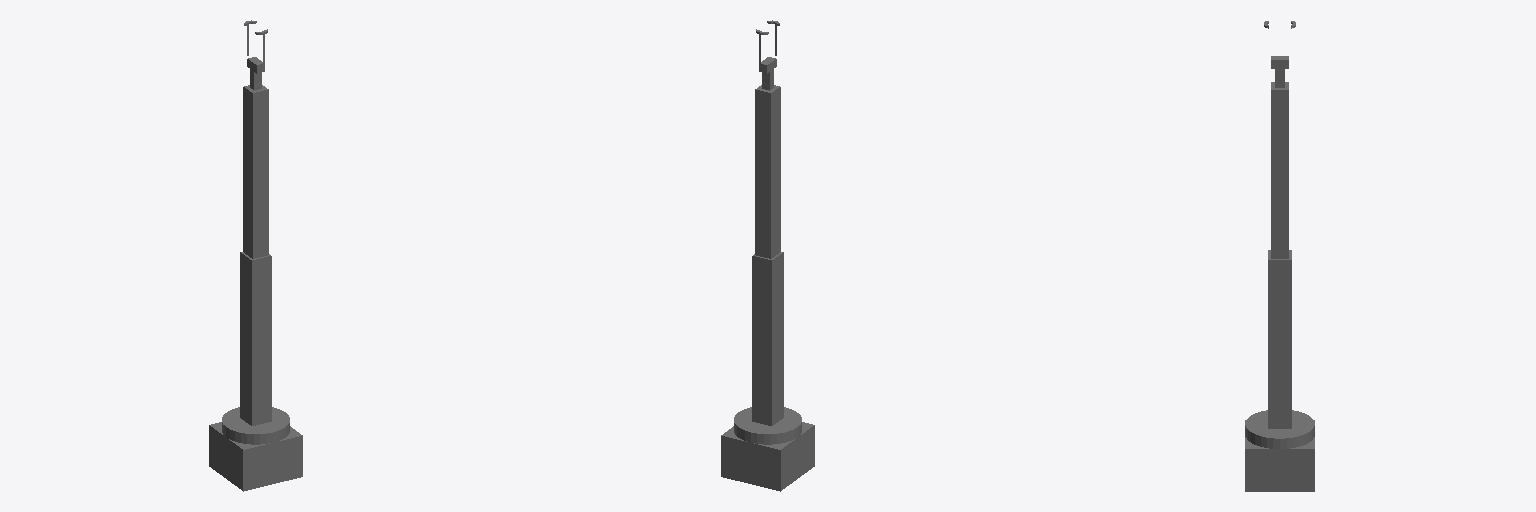
robot.urdf — chessArm:
<?xml version="1.0" ?>
<robot name="chessArm">

  <material name="gray">
    <color rgba="0.5 0.5 0.5 1"/>
  </material>
    
  <joint name="fixed" type="fixed">
    <parent link="world"/>
    <child link="base"/>
  </joint>
  
  
  <joint name="elbow" type="revolute">
    <parent link="upper_arm"/>
    <child link="forearm"/>
    <origin rpy="0  0  0" xyz="0   0   0.4"/>
    <axis xyz="0  1  0"/>
    <limit effort="-1.0" lower="-1.79769e+308" upper="1.79769e+308" velocity="-0.5"/>
  </joint>
  
  <joint name="wrist" type="revolute">
    <parent link="forearm"/>
    <child link="wrist_link"/>
    <origin rpy="0  0  0" xyz="0   0   0.4"/>
    <axis xyz="0   1   0"/>
    <limit effort="-1.0" lower="-1.79769e+308" upper="1.79769e+308" velocity="-0.5"/>
  </joint>
  
  <joint name="hand_joint" type="fixed">
    <parent link="wrist_link"/>
    <child link="gripper_bar"/>
    <origin rpy="0   0   0" xyz="0     0     0.055"/>
    <axis xyz="0  0  0"/>
    <limit effort="0" lower="0" upper="0" velocity="0"/>
  </joint>
  
  <joint name="right_grab" type="prismatic">
    <parent link="gripper_bar"/>
    <child link="right_grip"/>
    <origin rpy="0  0  0" xyz="0 -0.001  0.0075"/>
    <axis xyz="0  1  0"/>
    <limit effort="200.0" lower="-0.02" upper="0" velocity="-1"/>
  </joint>
  
  <joint name="left_grab" type="prismatic">
    <parent link="gripper_bar"/>
    <child link="left_grip"/>
    <origin rpy="0  0  0" xyz="0 0.001  0.0075"/>
    <axis xyz="0  1  0"/>
    <limit effort="200.0" lower="0" upper="0.02" velocity="-1"/>
  </joint>
  
  <joint name="shoulder" type="revolute">
    <parent link="swivel_base"/>
    <child link="upper_arm"/>
    <origin rpy="0  0  0" xyz="0      0      0.0125"/>
    <axis xyz="0  1  0"/>
    <limit effort="-1.0" lower="-1.79769e+308" upper="1.79769e+308" velocity="-0.5"/>
  </joint>
  
  <joint name="swivel" type="revolute">
    <parent link="base"/>
    <child link="swivel_base"/>
    <origin rpy="0  0  0" xyz="0      0      0.1125"/>
    <axis xyz="0  0  1"/>
    <limit effort="-1.0" lower="-1.79769e+308" upper="1.79769e+308" velocity="-0.5"/>
  </joint>
  
  <link name="world"/>
  
  
  
  <link name="base">
    <inertial>
      <mass value="10"/>
      <origin rpy="0  0  0" xyz="0  0  0"/>
      <inertia ixx="0.166667" ixy="0" ixz="0" iyy="0.166667" iyz="0" izz="0.166667"/>
    </inertial>
    <collision name="base_fixed_joint_lump__chessArm__collision_collision">
      <origin rpy="0  0  0" xyz="0    0    0.05"/>
      <geometry>
        <box size="0.15 0.15 0.1"/>
      </geometry>
    </collision>
    <visual name="base_fixed_joint_lump__chessArm__visual_visual">
      <origin rpy="0  0  0" xyz="0    0    0.05"/>
      <geometry>
        <box size="0.15 0.15 0.1"/>
      </geometry>
      <material name="gray"/>
    </visual>
  </link>
  
  <link name="forearm">
    <inertial>
      <mass value="0.01"/>
      <origin rpy="0  0  0" xyz="0  0  0"/>
      <inertia ixx="0.166667" ixy="0" ixz="0" iyy="0.166667" iyz="0" izz="0.166667"/>
    </inertial>
    <collision name="forearm_fixed_joint_lump__chessArm__collision_collision">
      <origin rpy="0  0  0" xyz="0   0   0.2"/>
      <geometry>
        <box size="0.04 0.04 0.4"/>
      </geometry>
    </collision>
    <visual name="forearm_fixed_joint_lump__chessArm__visual_visual">
      <origin rpy="0  0  0" xyz="0   0   0.2"/>
      <geometry>
        <box size="0.04 0.04 0.4"/>
      </geometry>
      <material name="gray"/>
    </visual>
  </link>
  
  <link name="wrist_link">
    <inertial>
      <mass value="0.01"/>
      <origin rpy="0  0  0" xyz="0  0  0"/>
      <inertia ixx="0.166667" ixy="0" ixz="0" iyy="0.166667" iyz="0" izz="0.166667"/>
    </inertial>
    <collision name="chessArm__collision">
      <origin rpy="0  0  0" xyz="0     0     0.025"/>
      <geometry>
        <box size="0.02 0.02 0.055"/>
      </geometry>
    </collision>
    <visual name="chessArm__visual">
      <origin rpy="0  0  0" xyz="0     0     0.025"/>
      <geometry>
        <box size="0.02 0.02 0.055"/>
      </geometry>
      <material name="gray"/>
    </visual>
  </link>
  
  <link name="gripper_bar">
    <inertial>
      <mass value="0.01"/>
      <origin rpy="0  0  0" xyz="0  0  0"/>
      <inertia ixx="0.166667" ixy="0" ixz="0" iyy="0.166667" iyz="0" izz="0.166667"/>
    </inertial>
    <collision name="chessArm__collision">
      <origin rpy="0  0  0" xyz="0  0  0"/>
      <geometry>
        <box size="0.02 0.04 0.02"/>
      </geometry>
    </collision>
    <visual name="chessArm__visual">
      <origin rpy="0  0  0" xyz="0  0  0"/>
      <geometry>
        <box size="0.02 0.04 0.02"/>
      </geometry>
      <material name="gray"/>
    </visual>
  </link>
  
  <link name="left_grip">
    <inertial>
      <mass value="0.05"/>
      <origin rpy="0  0  0" xyz="0  0  0"/>
      <inertia ixx="0.166667" ixy="0" ixz="0" iyy="0.166667" iyz="0" izz="0.166667"/>
    </inertial>
    <collision name="chessArm__collision">
      <origin rpy="0  3.14159  -1.570795" xyz="0     -0.02     0.085"/>
      <geometry>
        <mesh filename="package://chessRobot/models/chessGripper/gripper.dae" scale="0.01 0.01 0.01"/>
      </geometry>
    <mu1 value="100"/>
    <mu2 value="100"/>
    <kp  value="100" />
    <kd  value="1.0" />
    <minDepth>0.002</minDepth>
    <maxVel>0</maxVel>  
    <dynamics damping="0.7" friction="1000" />
    </collision>
    <visual name="chessArm__visual">
     <origin rpy="0  3.14159  -1.570795" xyz="0     -0.02     0.085"/>
      <geometry>
        <mesh filename="package://chessRobot/models/chessGripper/gripper.dae" scale="0.01 0.01 0.01"/>
      </geometry>
      <material name="gray"/>
    </visual>
  </link>
  
  <link name="right_grip">
    <inertial>
      <mass value="0.05"/>
      <origin rpy="0  0  0" xyz="0  0  0"/>
      <inertia ixx="0.166667" ixy="0" ixz="0" iyy="0.166667" iyz="0" izz="0.166667"/>
    </inertial>
    <collision name="chessArm__collision">
      <origin rpy="0  3.14159  1.570795" xyz="0     0.02     0.085"/>
      <geometry>
        <mesh filename="package://chessRobot/models/chessGripper/gripper.dae" scale="0.01 0.01 0.01"/>
      </geometry>
    <mu1 value="100"/>
    <mu2 value="100"/>
    <kp  value="100" />
    <kd  value="1.0" />
    <minDepth>0.002</minDepth>
    <maxVel>0</maxVel>  
    <dynamics damping="0.7" friction="1000" />
    </collision>
    <visual name="chessArm__visual">
      <origin rpy="0  3.14159  1.570795" xyz="0     0.02     0.085"/>
      <geometry>
        <mesh filename="package://chessRobot/models/chessGripper/gripper.dae" scale="0.01 0.01 0.01"/>
      </geometry>
      <material name="gray"/>
    </visual>
  </link>
  
  <link name="swivel_base">
    <inertial>
      <mass value="1"/>
      <origin rpy="0  0  0" xyz="0  0  0"/>
      <inertia ixx="0.145833" ixy="0" ixz="0" iyy="0.145833" iyz="0" izz="0.125"/>
    </inertial>
    <collision name="swivel_base_fixed_joint_lump__chessArm__collision_collision">
      <origin rpy="0  0  0" xyz="0  0  0"/>
      <geometry>
        <cylinder length="0.025" radius="0.075"/>
      </geometry>
    </collision>
    <visual name="swivel_base_fixed_joint_lump__chessArm__visual_visual">
      <origin rpy="0  0  0" xyz="0  0  0"/>
      <geometry>
        <cylinder length="0.025" radius="0.075"/>
      </geometry>
      <material name="gray"/>
    </visual>
  </link>
  
  <link name="upper_arm">
    <inertial>
      <mass value="0.01"/>
      <origin rpy="0  0  0" xyz="0  0  0"/>
      <inertia ixx="0.166667" ixy="0" ixz="0" iyy="0.166667" iyz="0" izz="0.166667"/>
    </inertial>
    <collision name="upper_arm_fixed_joint_lump__chessArm__collision_collision">
      <origin rpy="0  0  0" xyz="0   0   0.2"/>
      <geometry>
        <box size="0.05 0.05 0.4"/>
      </geometry>
    </collision>
    <visual name="upper_arm_fixed_joint_lump__chessArm__visual_visual">
      <origin rpy="0  0  0" xyz="0   0   0.2"/>
      <geometry>
        <box size="0.05 0.05 0.4"/>
      </geometry>
      <material name="gray"/>
    </visual>
  </link>
</robot>

--- Render facts (derived) ---
3 views of the same robot in one strip: view 1: azimuth 30°, elevation 25°; view 2: azimuth 150°, elevation 25°; view 3: azimuth 270°, elevation 25° (orthographic).
Robot: chessArm — 9 links, 8 joints (4 revolute, 2 prismatic, 2 fixed); root link world; default pose: all joints at 0.
Visible links, largest first — view 1: upper_arm, forearm, base, swivel_base; view 2: upper_arm, forearm, base, swivel_base; view 3: upper_arm, base, forearm, swivel_base.
Boxes of the visible links, left/top/right/bottom form: upper_arm: left=240, top=252, right=271, bottom=425; forearm: left=243, top=85, right=268, bottom=258; base: left=209, top=422, right=302, bottom=491; swivel_base: left=222, top=407, right=289, bottom=444; upper_arm: left=752, top=252, right=783, bottom=425; forearm: left=755, top=85, right=780, bottom=258; base: left=721, top=422, right=814, bottom=491; swivel_base: left=734, top=407, right=801, bottom=444; upper_arm: left=1268, top=250, right=1291, bottom=428; base: left=1245, top=420, right=1314, bottom=491; forearm: left=1271, top=82, right=1288, bottom=258; swivel_base: left=1245, top=410, right=1314, bottom=448.
Size in the robot's own frame: 0.15 by 0.15 by 1.07 metres.
Meshes: 1 distinct files referenced, 2 mesh visuals loaded (1 Collada DAE).